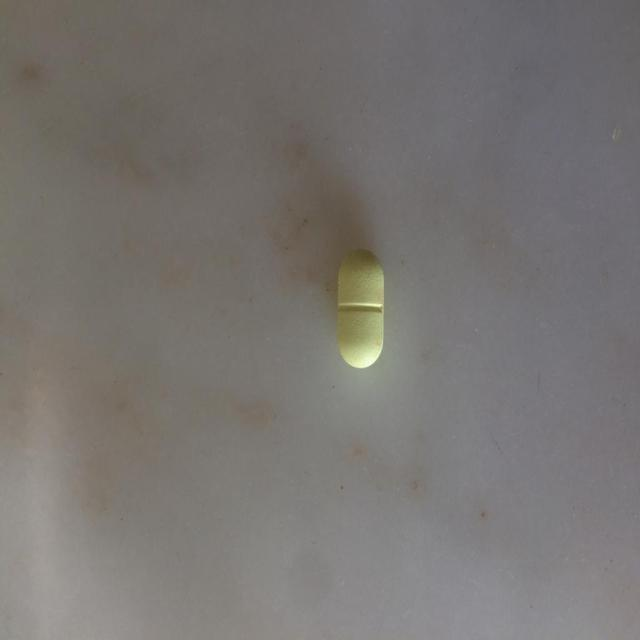pills: (327, 235, 395, 383)
